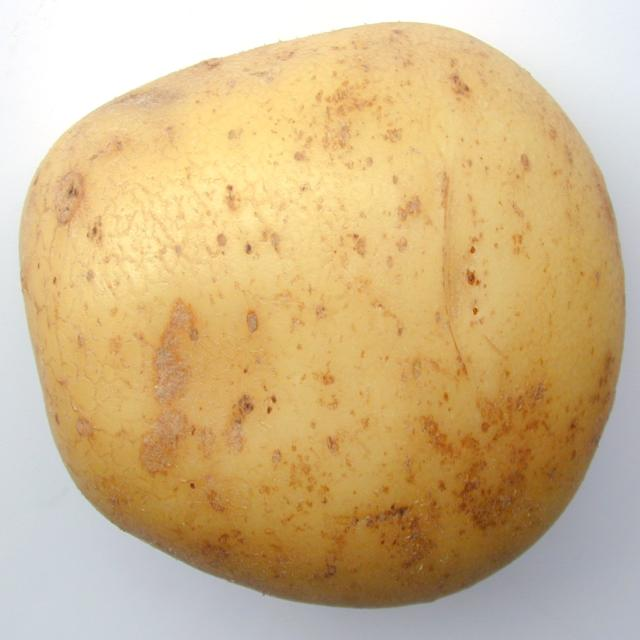potato: (21, 22, 625, 614)
